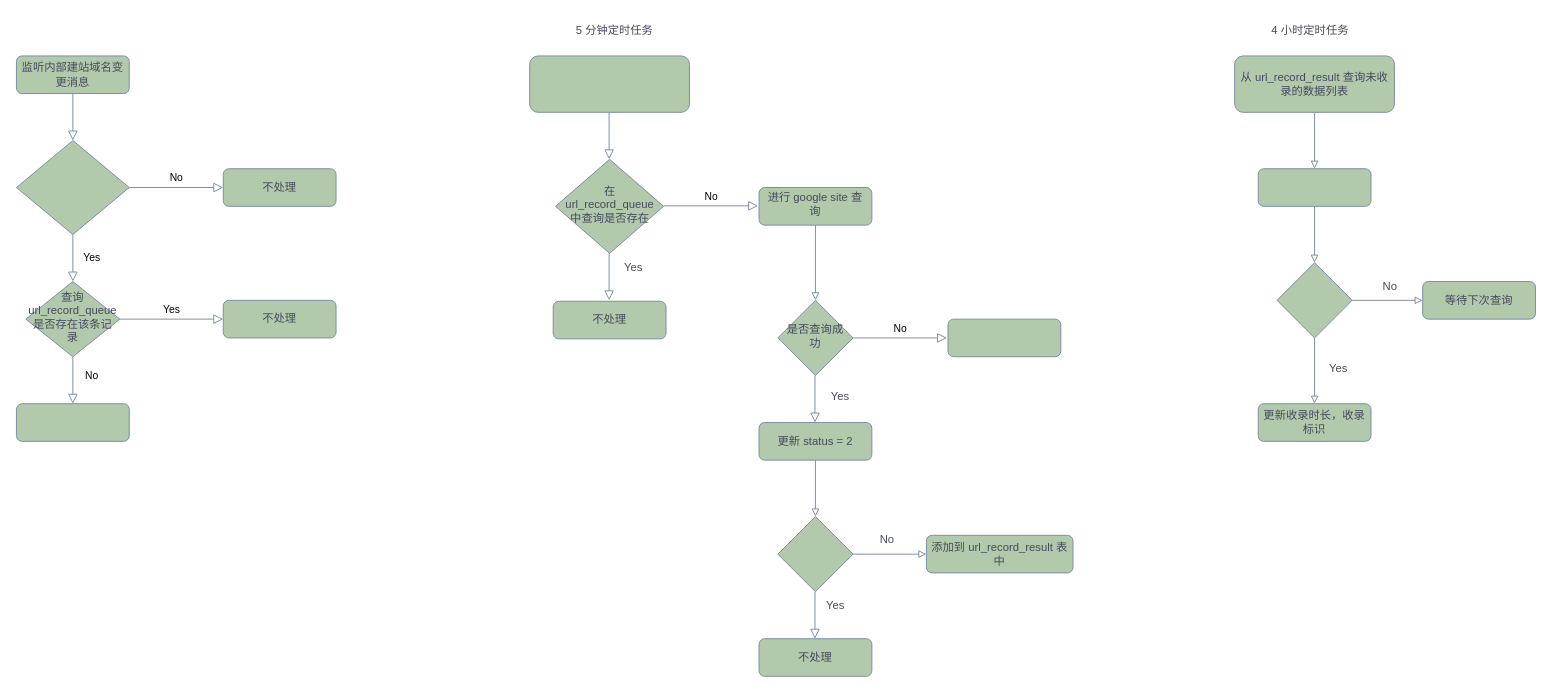
This 1552x693 diagram has some shape labels left out. The centre of each missing label's shape, as x and y in pixels:
"从 url_record_queue 查询未处理的数据，更新 status = 1" belongs at (609,83).
"依次进行 site 查询" belongs at (1314,187).
"插入到 url_record_queue 表" belongs at (72,422).
"是否为自定义域名和主域名变更" belongs at (72,187).
"是否已收录" belongs at (1314,300).
"更新 status = 0" belongs at (1004,337).
"结果数 > 0" belongs at (815,554).
